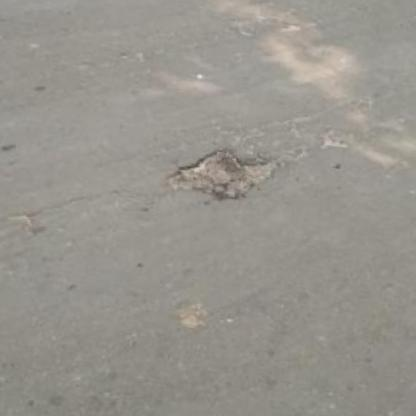pothole: (161, 137, 283, 207)
